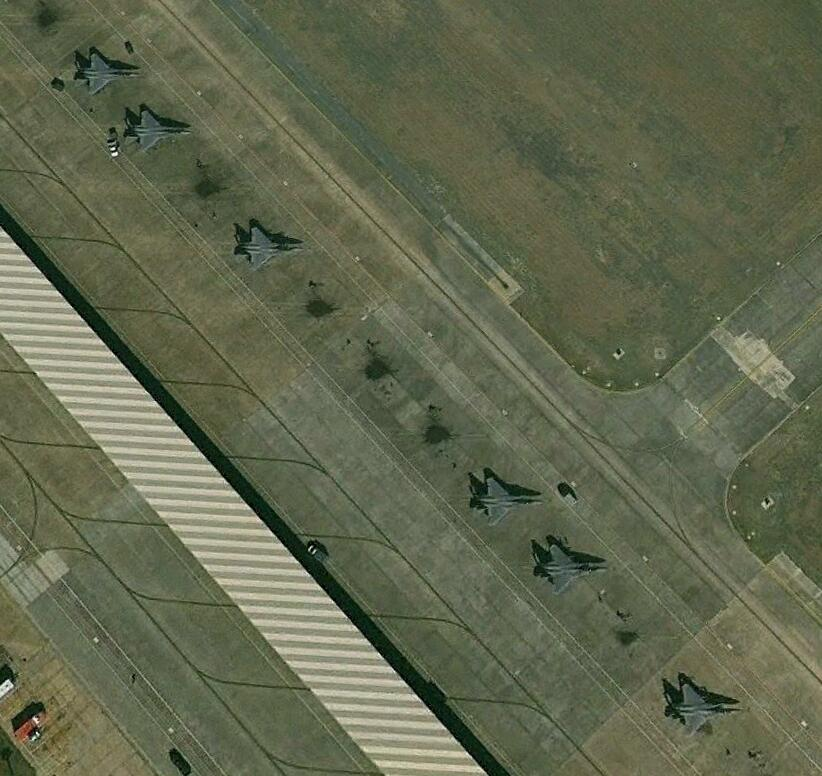A13: (662, 681, 744, 735), (468, 472, 544, 525), (532, 544, 609, 595), (233, 219, 309, 269), (122, 107, 191, 154), (73, 49, 144, 93)
